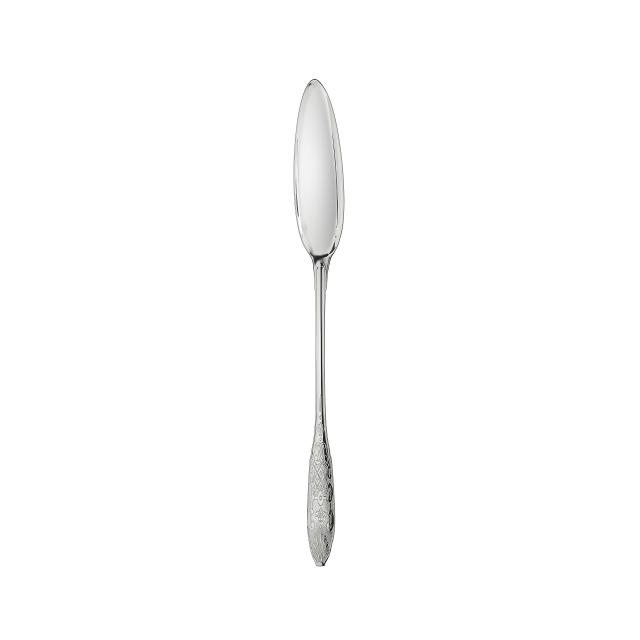spoon: (283, 69, 352, 580)
